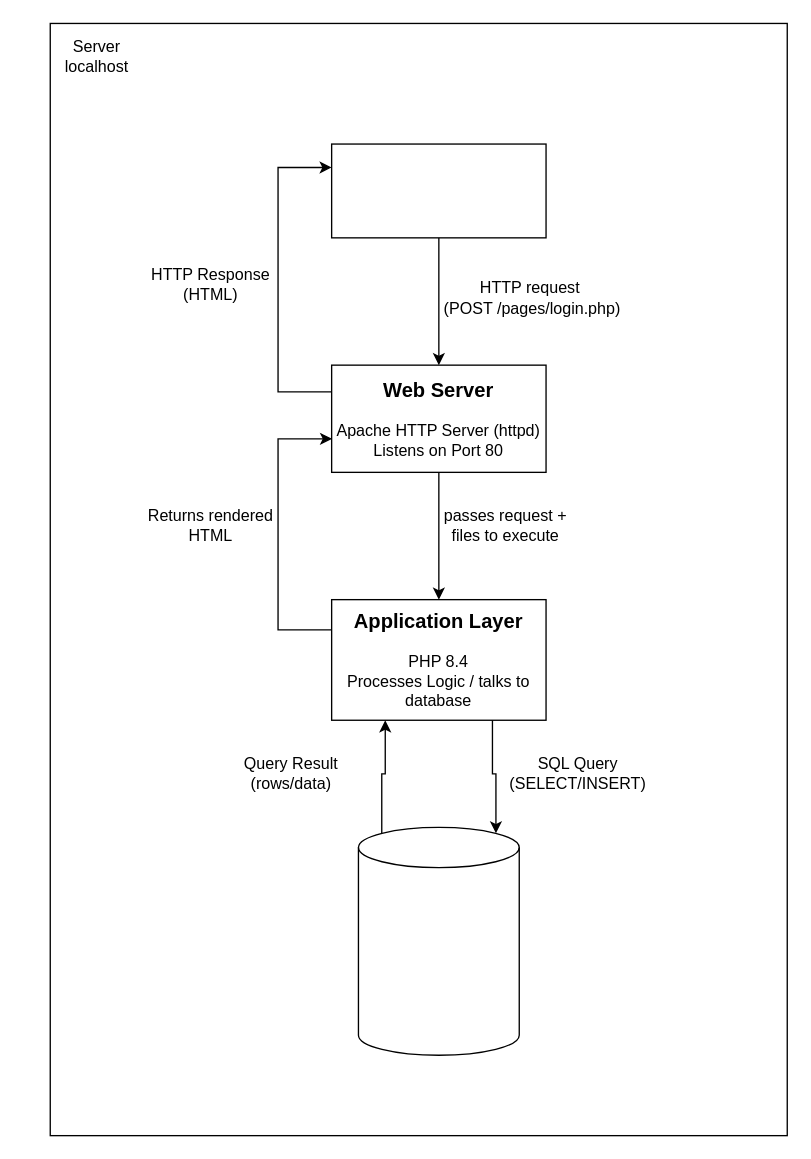
The diagram is 811 pixels wide and 1159 high, and some of its shapes have lost their labels. Here are the shapes that lost their labels. From the top down, the centre of each, then its label:
At (x=438, y=190): "Browser Chrome / Firefox / Edge Makes HTTP requests".
At (x=438, y=940): "Database MariaDB 10.11 Stores all data".
